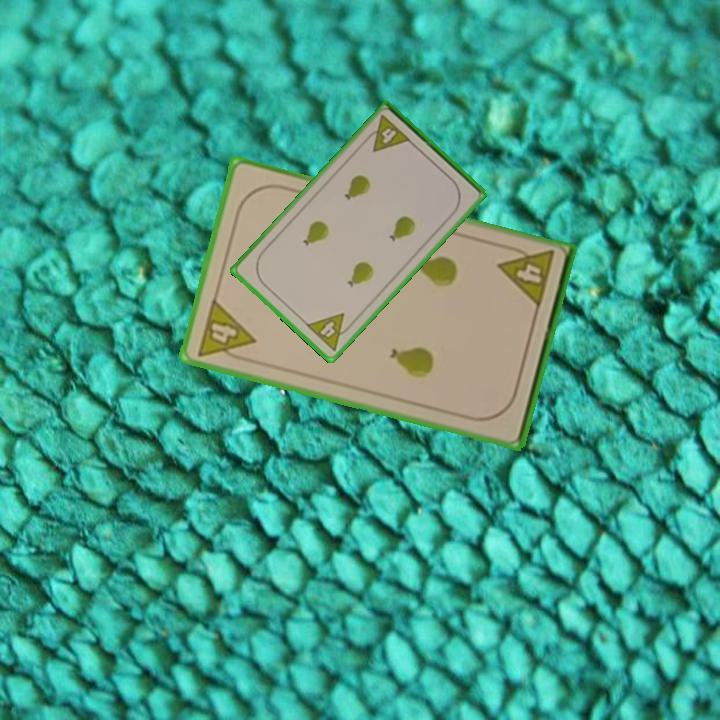4p: (193, 295, 258, 366), (495, 241, 557, 311), (302, 309, 357, 354), (360, 112, 414, 155)
